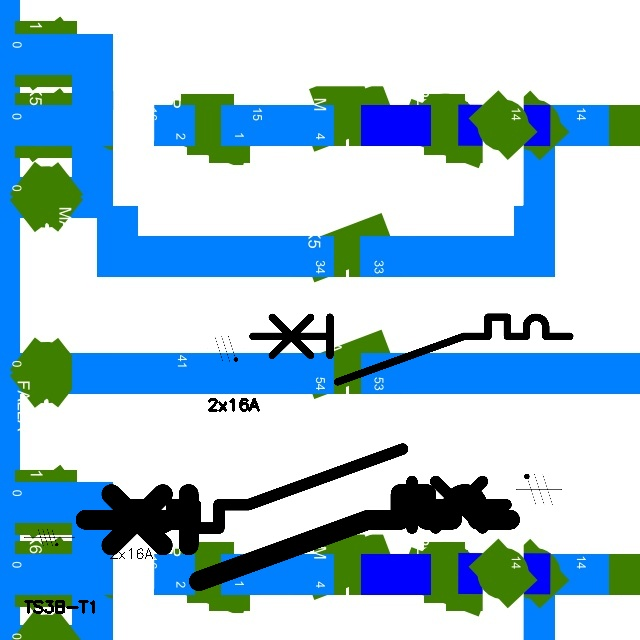interruptor_termomagnetico: (74, 483, 520, 592), (109, 439, 516, 538), (244, 309, 577, 390)
